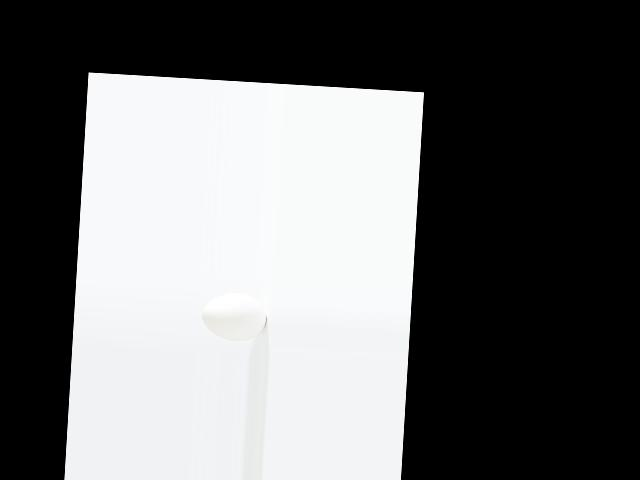egg: (200, 290, 267, 342)
